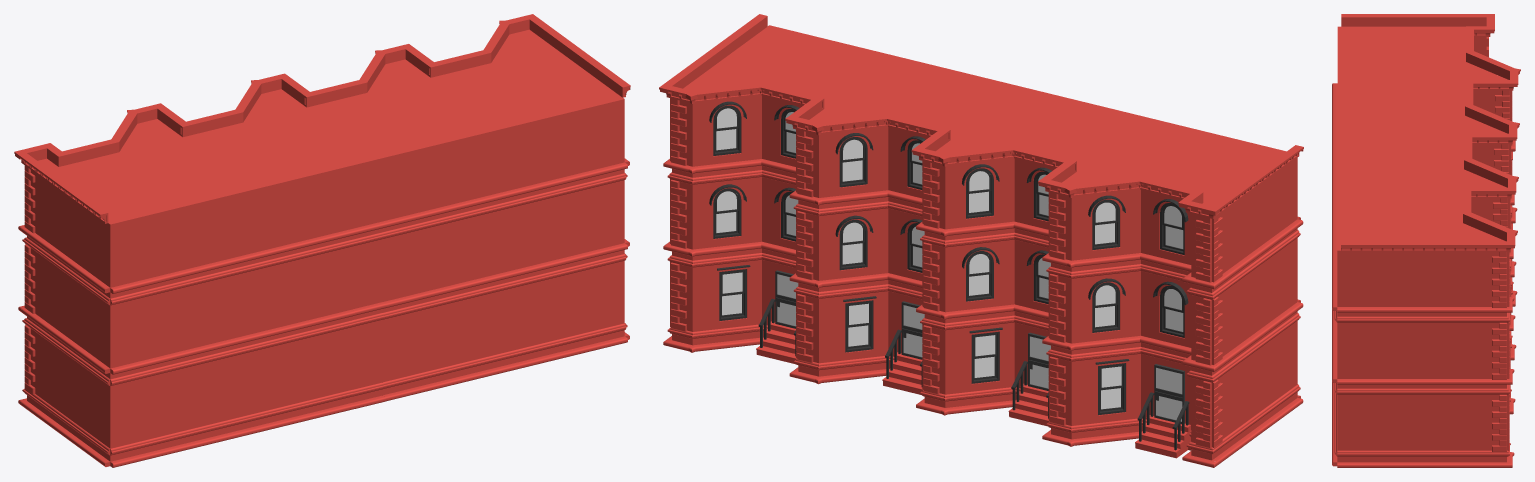
File: Prop_Building_2.fbx
3 renders of one model, left to right at view 1: azimuth 30°, elevation 25°; view 2: azimuth 150°, elevation 25°; view 3: azimuth 270°, elevation 25°, orthographic. The views are drawn at different scales.
Visible parts, largest first — view 1: BrickWallThin_2_B.031, BrickWallThin_2_B.039, Cornice_Corner_LightGray_V2.006, Cornice_Corner_LightGray_V2.011, BrickWallLight_Window_V1_1.147, BrickWallLight_Window_V1_1.155, BrickWallLight_Window_V1_1.149, BrickWallLight_Window_V1_1.157, BrickWallLight_Window_V1_1.144, BrickWallLight_Window_V1_1.150, BrickWallLight_Window_V1_1.143, BrickWallLight_Window_V1_1.145 (+29 smaller); view 2: BrickWallThin_2_B.031, BrickWallThin_2_B.039, Cornice_Corner_LightGray_V2.011, Cornice_Corner_LightGray_V2.006, BrickWall_Window_V2_2.008, BrickWall_Window_V2_2.010, BrickWall_Window_V2_2.012, BrickWall_Window_V2_2.014, BrickWall_Window_V1_1.012, BrickWall_Window_V1_1.009, BrickWall_Window_V1_1.010, BrickWall_Window_V1_1.011 (+57 smaller); view 3: BrickWallThin_2_B.031, BrickWallThin_2_B.039, Cornice_Corner_LightGray_V2.006, BrickWallLight_Window_V1_1.126, BrickWallLight_Window_V1_1.127, BrickWallLight_Window_V1_1.123, BrickWallLight_Window_V1_1.124, Cornice_Corner_LightGray_V2.011, BrickWallThin_3_L.013, BrickWallThin_3_L.021, Cornice_LightGray_V2.068, Cornice_LightGray_V2.069 (+32 smaller).
Part boxes in pixels (x1=…): BrickWallThin_2_B.031: x1=38, y1=29, x2=624, y2=224; BrickWallThin_2_B.039: x1=31, y1=99, x2=624, y2=287; Cornice_Corner_LightGray_V2.006: x1=18, y1=323, x2=629, y2=467; Cornice_Corner_LightGray_V2.011: x1=18, y1=239, x2=629, y2=385; BrickWallLight_Window_V1_1.147: x1=292, y1=224, x2=443, y2=323; BrickWallLight_Window_V1_1.155: x1=292, y1=305, x2=443, y2=404; BrickWallLight_Window_V1_1.149: x1=503, y1=195, x2=564, y2=272; BrickWallLight_Window_V1_1.157: x1=503, y1=275, x2=564, y2=352; BrickWallLight_Window_V1_1.144: x1=171, y1=276, x2=231, y2=353; BrickWallLight_Window_V1_1.150: x1=564, y1=180, x2=624, y2=257; BrickWallLight_Window_V1_1.143: x1=110, y1=291, x2=170, y2=368; BrickWallLight_Window_V1_1.145: x1=231, y1=261, x2=291, y2=338; BrickWallThin_2_B.031: x1=683, y1=25, x2=1286, y2=206; BrickWallThin_2_B.039: x1=679, y1=95, x2=1297, y2=277; Cornice_Corner_LightGray_V2.011: x1=663, y1=241, x2=1303, y2=382; Cornice_Corner_LightGray_V2.006: x1=663, y1=324, x2=1303, y2=467; BrickWall_Window_V2_2.008: x1=1071, y1=271, x2=1140, y2=343; BrickWall_Window_V2_2.010: x1=945, y1=239, x2=1014, y2=312; BrickWall_Window_V2_2.012: x1=819, y1=208, x2=888, y2=280; BrickWall_Window_V2_2.014: x1=692, y1=177, x2=761, y2=249; BrickWall_Window_V1_1.012: x1=692, y1=260, x2=761, y2=331; BrickWall_Window_V1_1.009: x1=1071, y1=354, x2=1140, y2=425; BrickWall_Window_V1_1.010: x1=945, y1=322, x2=1014, y2=394; BrickWall_Window_V1_1.011: x1=819, y1=291, x2=888, y2=363; BrickWallThin_2_B.031: x1=1337, y1=26, x2=1508, y2=250; BrickWallThin_2_B.039: x1=1337, y1=37, x2=1502, y2=306; Cornice_Corner_LightGray_V2.006: x1=1332, y1=281, x2=1517, y2=467; BrickWallLight_Window_V1_1.126: x1=1337, y1=322, x2=1399, y2=378; BrickWallLight_Window_V1_1.127: x1=1337, y1=394, x2=1399, y2=450; BrickWallLight_Window_V1_1.123: x1=1399, y1=322, x2=1461, y2=378; BrickWallLight_Window_V1_1.124: x1=1399, y1=394, x2=1461, y2=450; Cornice_Corner_LightGray_V2.011: x1=1332, y1=207, x2=1517, y2=394; BrickWallThin_3_L.013: x1=1465, y1=394, x2=1486, y2=450; BrickWallThin_3_L.021: x1=1465, y1=322, x2=1486, y2=378; Cornice_LightGray_V2.068: x1=1399, y1=307, x2=1461, y2=322; Cornice_LightGray_V2.069: x1=1337, y1=307, x2=1399, y2=322.
Size of the model in its own units: 1752 by 796 by 605.
